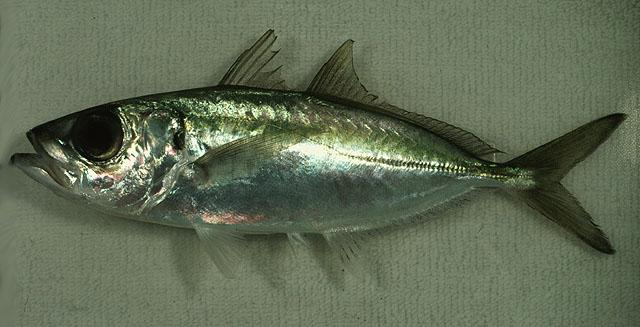Mulut: (4, 110, 60, 194)
Sirip Dada: (187, 120, 327, 184)
Sirip Ekor: (513, 96, 633, 264)
Sirip Perut: (178, 196, 256, 284)
Sirip Punggung: (215, 12, 421, 126), (324, 182, 502, 274)
